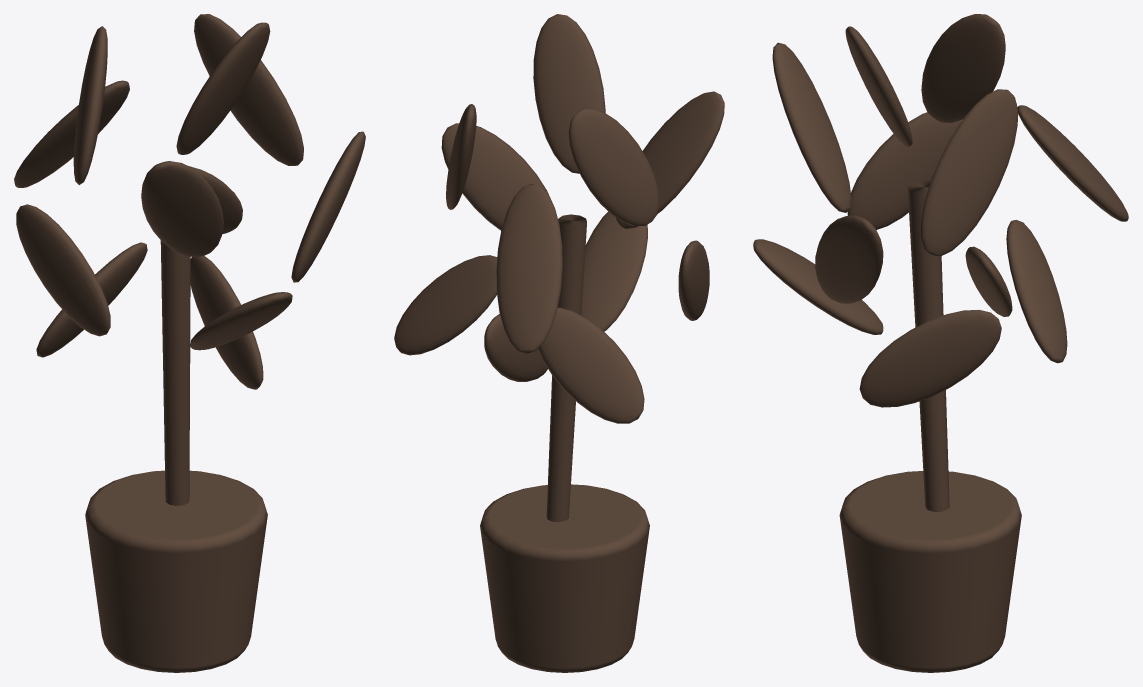
The model's file is plant_big.glb.
3 renders of one model, left to right at view 1: azimuth 30°, elevation 25°; view 2: azimuth 150°, elevation 25°; view 3: azimuth 270°, elevation 25°, orthographic. The views are drawn at different scales.
Parts seen in each view (by area): view 1: plant_big; view 2: plant_big; view 3: plant_big.
Boxes of the visible parts, bbox=[...] form: plant_big: bbox=[14, 14, 365, 672]; plant_big: bbox=[394, 14, 724, 672]; plant_big: bbox=[753, 14, 1128, 672].
Bounding box in the file's own units: 0.7431 × 1.49 × 0.7907.
